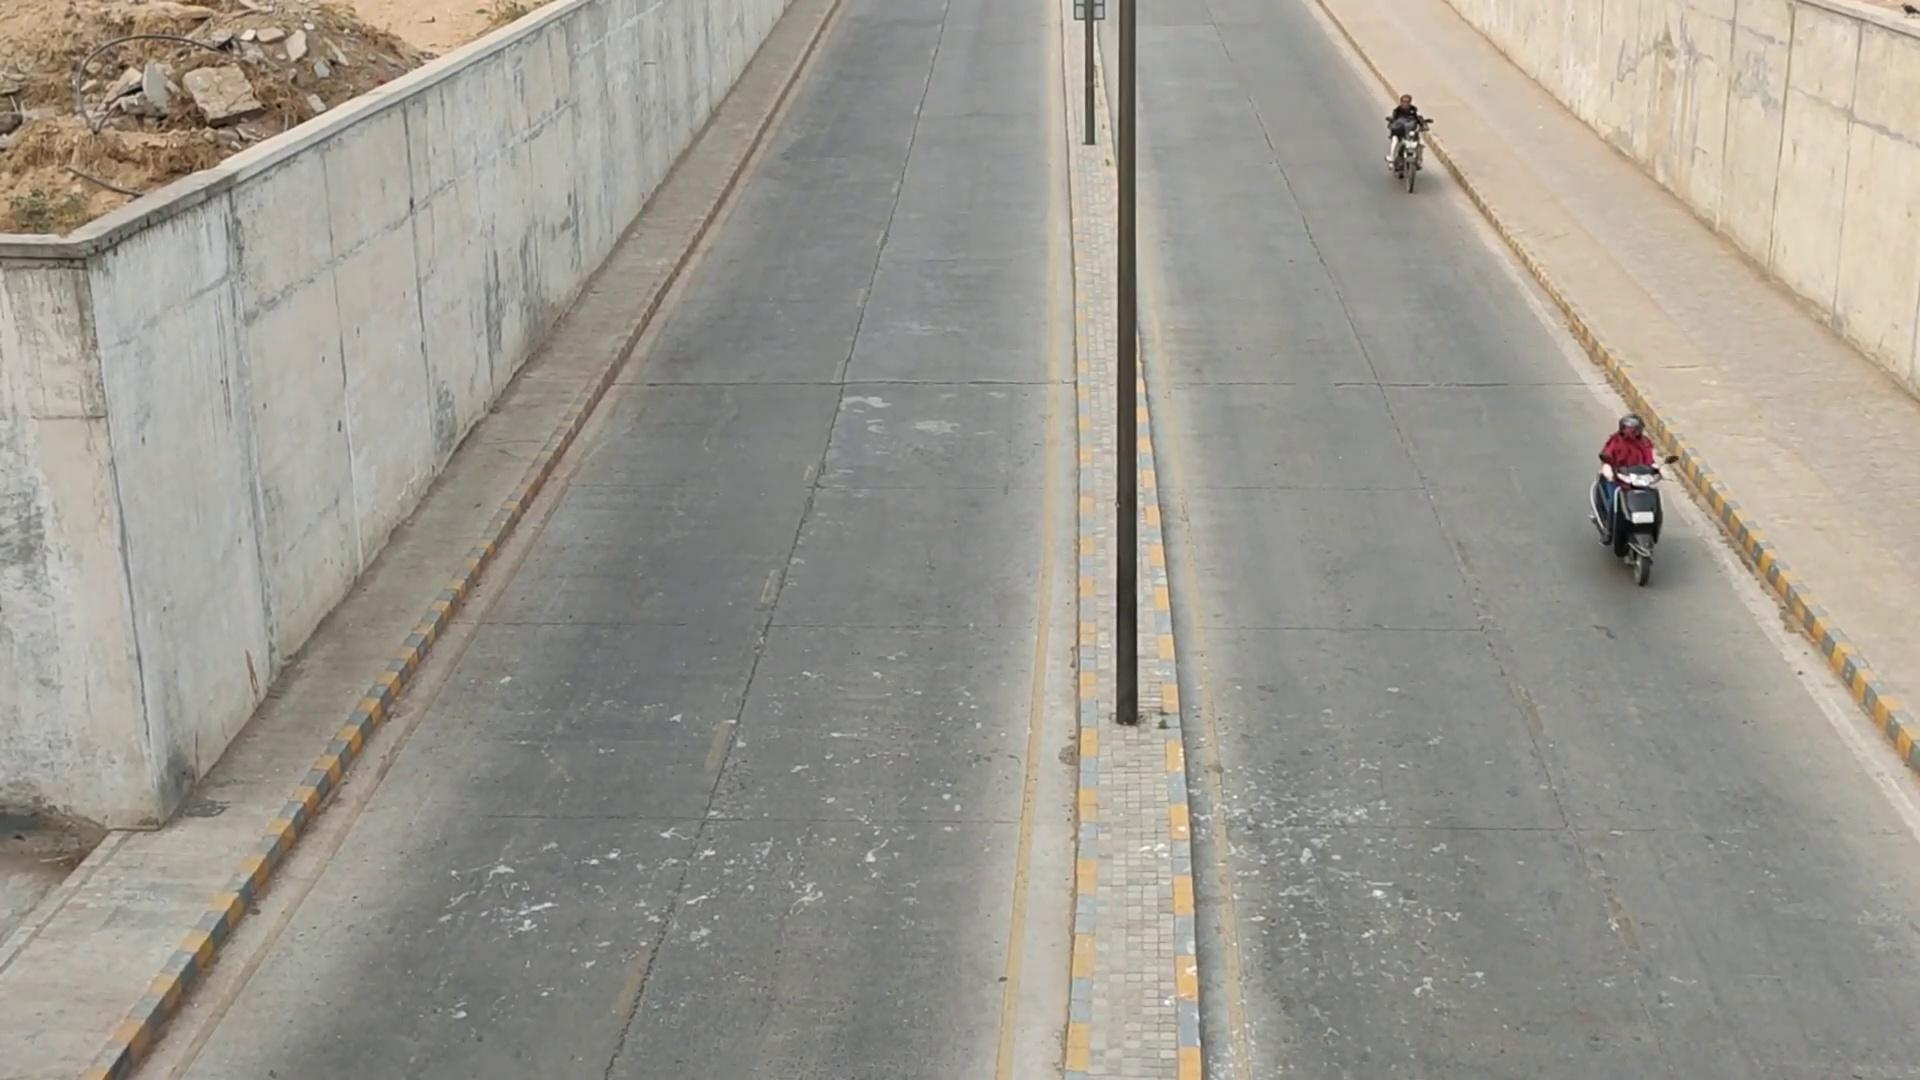Motorcycle: (1578, 413, 1673, 593), (1371, 87, 1441, 204)
